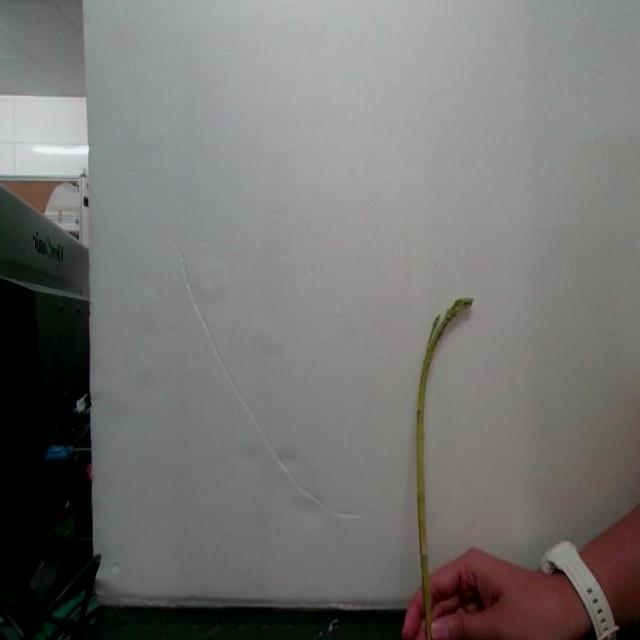aspargus: (416, 299, 473, 640)
